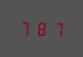eight: (34, 19, 48, 37)
seven: (18, 19, 32, 36), (49, 20, 63, 37)
